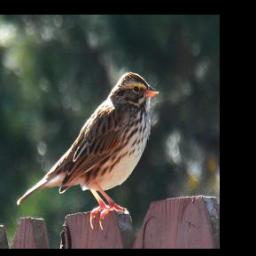Sparrow: (17, 69, 162, 228)
